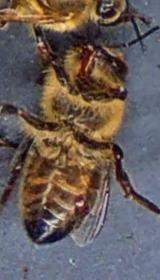varroa_mite: (68, 191, 92, 218)
